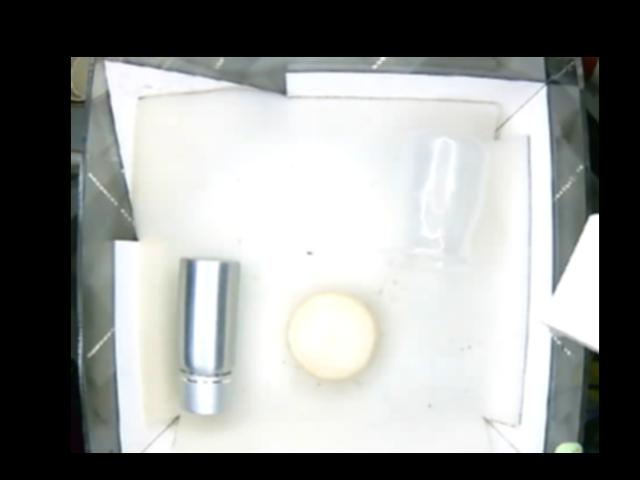Bottle: (405, 135, 491, 265), (176, 257, 239, 414)
Mooli: (282, 296, 378, 382)
